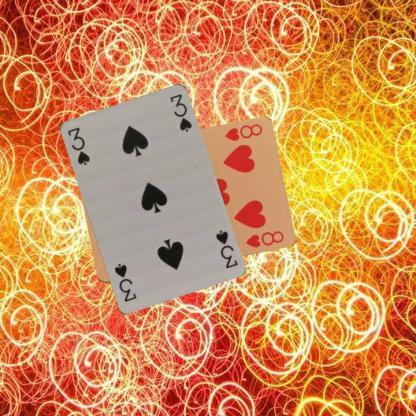3s: (64, 124, 91, 166), (212, 227, 238, 270)
8h: (221, 121, 264, 143)
